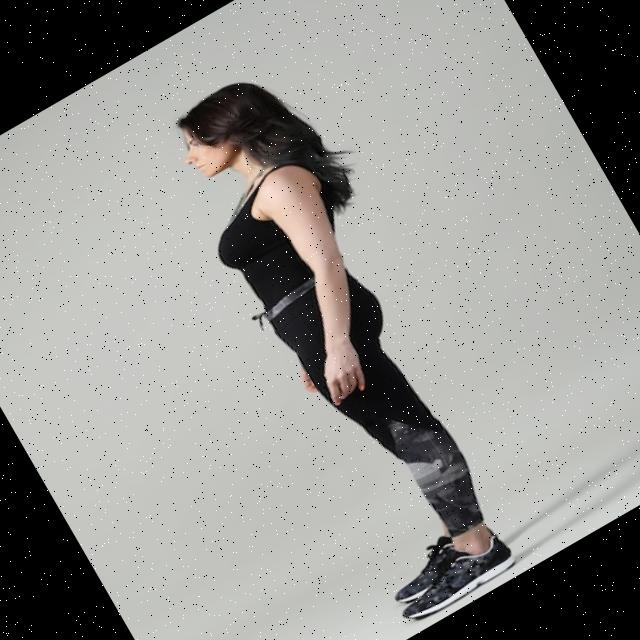Person: (125, 55, 554, 628)
